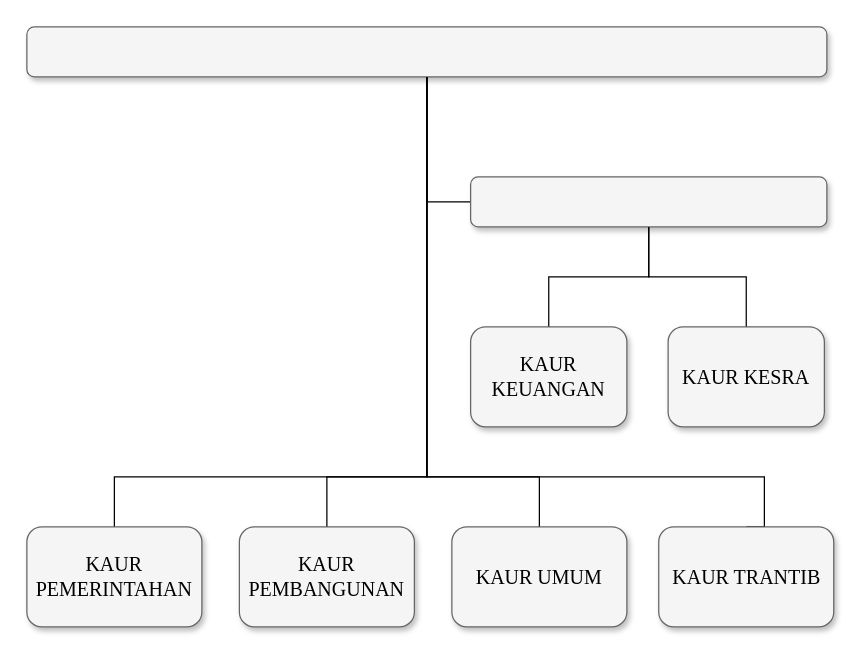
The diagram is 864 pixels wide and 658 high, and some of its shapes have lost their labels. Here are the shapes that lost their labels. From the top down, the centre of each, then its label:
the point at 427,53: KEPALA DESA
the point at 649,203: SEKERTARIS
